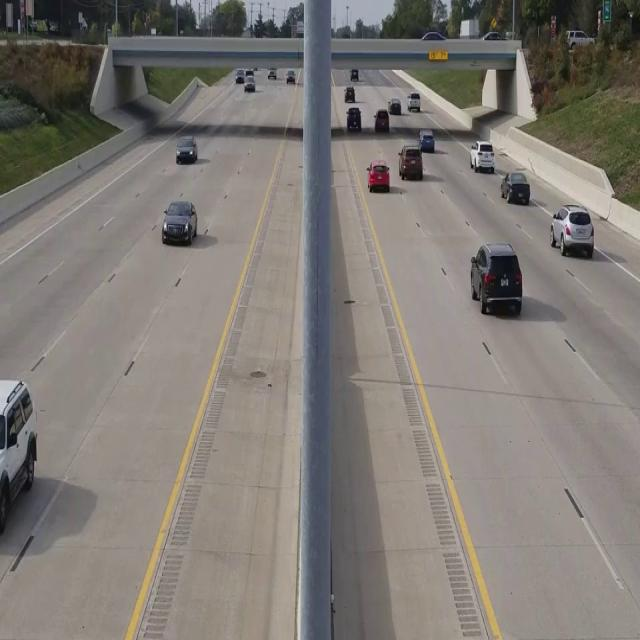car: (469, 242, 522, 315), (549, 205, 594, 258), (162, 199, 198, 244), (501, 169, 530, 204), (398, 144, 423, 180), (367, 160, 390, 192), (175, 135, 198, 164), (566, 28, 594, 51)
